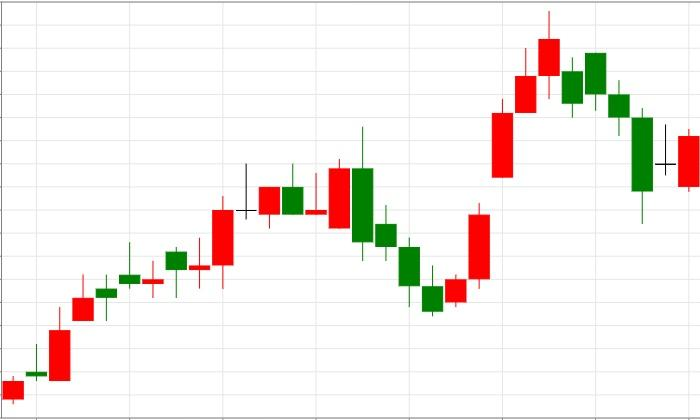bearish_engulfing_fall: (2, 126, 373, 404)
three_white_soldiers_rise: (328, 99, 514, 316)
